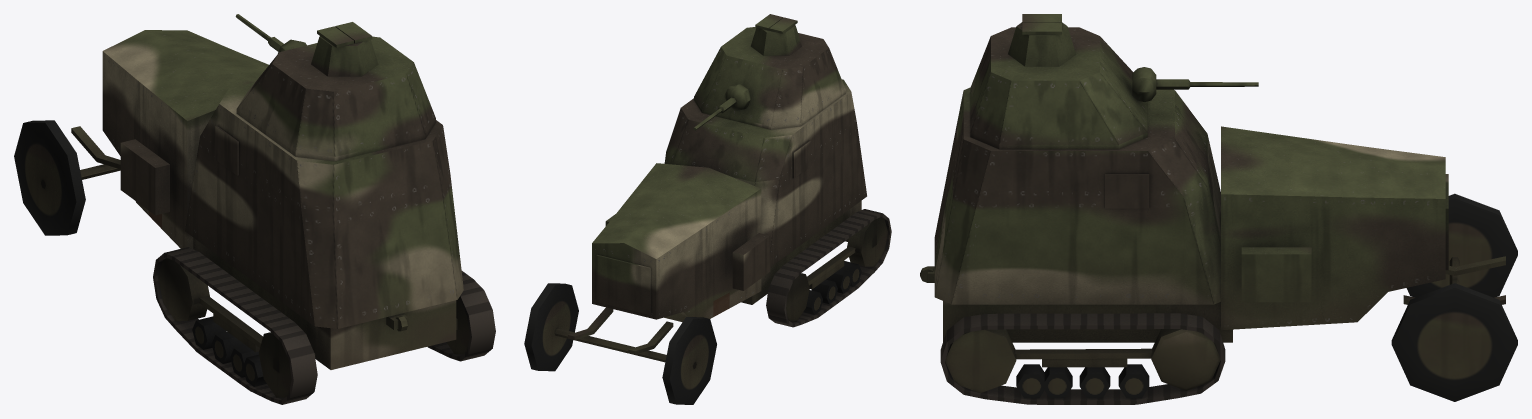
Rendered from WZ28_CKM_MID.fbx.
3 views of the same model, side by side, from view 1: azimuth 30°, elevation 25°; view 2: azimuth 150°, elevation 25°; view 3: azimuth 270°, elevation 25° (orthographic). The views are drawn at different scales.
Parts seen in each view (by area): view 1: Chassis, Tourelle_01, Chenille_Gauche_01, Roue_Gauche_01, Chenille_Droite_01, Roue_G1, Roue_G6, Roue_G2, Roue_D6, Roue_G3, Roue_G5, Roue_G4; view 2: Chassis, Tourelle_01, Chenille_Gauche_01, Roue_Gauche_01, Roue_Droite_01, Roue_G6, Roue_G1, Axe_Canon_01, Roue_G3, Roue_G4, Roue_G2; view 3: Chassis, Tourelle_01, Roue_Droite_01, Chenille_Droite_01, Roue_Gauche_01, Roue_D6, Roue_D1, Roue_D2, Roue_D5, Roue_D3, Roue_D4, Axe_Canon_01 (+1 smaller).
Boxes of the visible parts, <box> form: Chassis: <box>71,30,463,369</box>; Tourelle_01: <box>236,22,435,161</box>; Chenille_Gauche_01: <box>153,247,317,404</box>; Roue_Gauche_01: <box>14,120,85,235</box>; Chenille_Droite_01: <box>427,271,495,361</box>; Roue_G1: <box>158,258,209,321</box>; Roue_G6: <box>258,332,291,397</box>; Roue_G2: <box>192,316,226,349</box>; Roue_D6: <box>446,298,469,354</box>; Roue_G3: <box>211,332,245,363</box>; Roue_G5: <box>243,354,266,386</box>; Roue_G4: <box>230,345,258,377</box>; Chassis: <box>554,79,866,362</box>; Tourelle_01: <box>694,14,845,129</box>; Chenille_Gauche_01: <box>766,209,891,327</box>; Roue_Gauche_01: <box>662,317,716,404</box>; Roue_Droite_01: <box>524,283,578,371</box>; Roue_G6: <box>847,217,887,266</box>; Roue_G1: <box>786,273,809,321</box>; Axe_Canon_01: <box>724,84,751,110</box>; Roue_G3: <box>811,279,837,303</box>; Roue_G4: <box>826,269,851,293</box>; Roue_G2: <box>803,290,822,314</box>; Chassis: <box>920,87,1505,367</box>; Tourelle_01: <box>970,14,1147,149</box>; Roue_Droite_01: <box>1391,283,1517,401</box>; Chenille_Droite_01: <box>940,313,1225,404</box>; Roue_Gauche_01: <box>1406,193,1517,297</box>; Roue_D6: <box>945,329,1016,392</box>; Roue_D1: <box>1151,329,1220,390</box>; Roue_D2: <box>1118,364,1149,398</box>; Roue_D5: <box>1016,364,1046,398</box>; Roue_D3: <box>1079,367,1110,398</box>; Roue_D4: <box>1042,367,1072,398</box>; Axe_Canon_01: <box>1132,67,1156,101</box>.
Bounding box in the file's own units: 138 × 350 × 215.
1 material, 1 textured.
